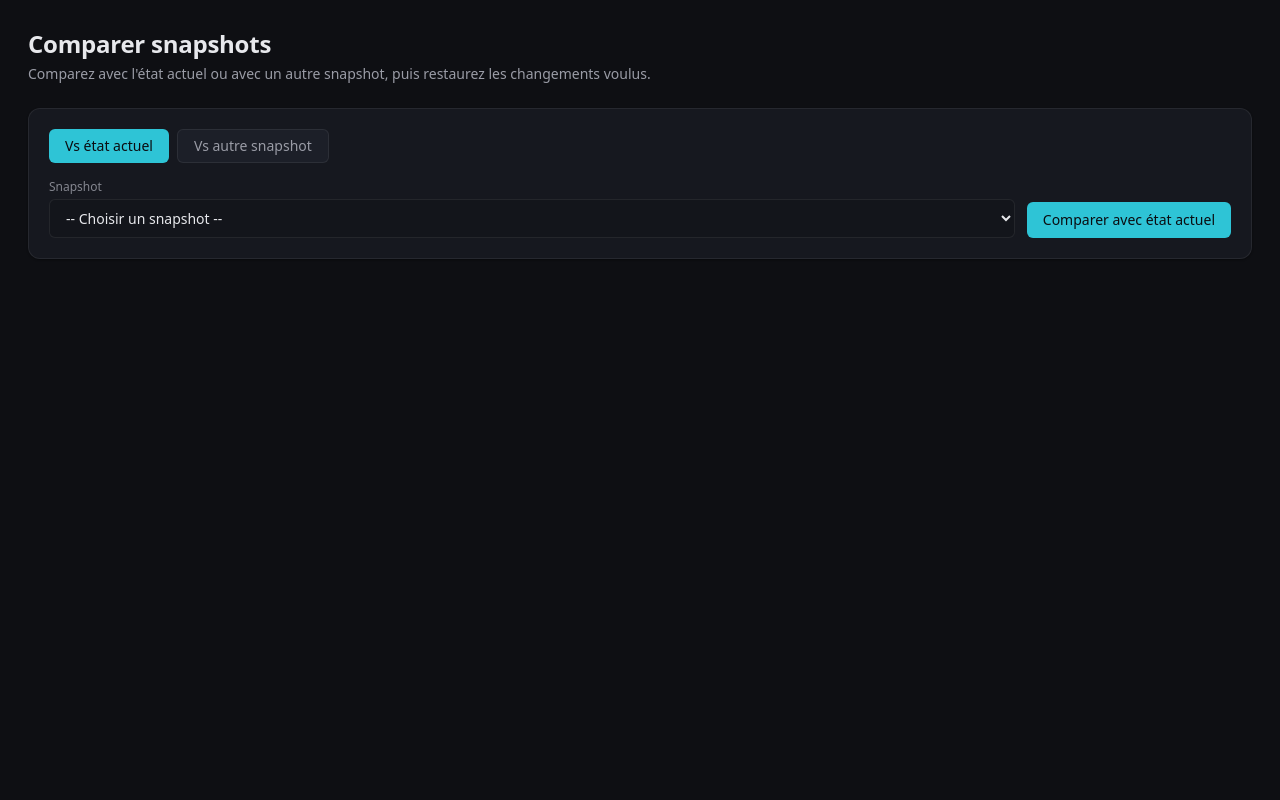
SnapshotComparePage › clicking a checkbox in DiffView adds the entry to selectedChanges
Step 1. Select "07/05/2026 12:00:00 (7 clés)" in the dropdown labelled "Snapshot" → (532, 218), box [49,199,1015,238]
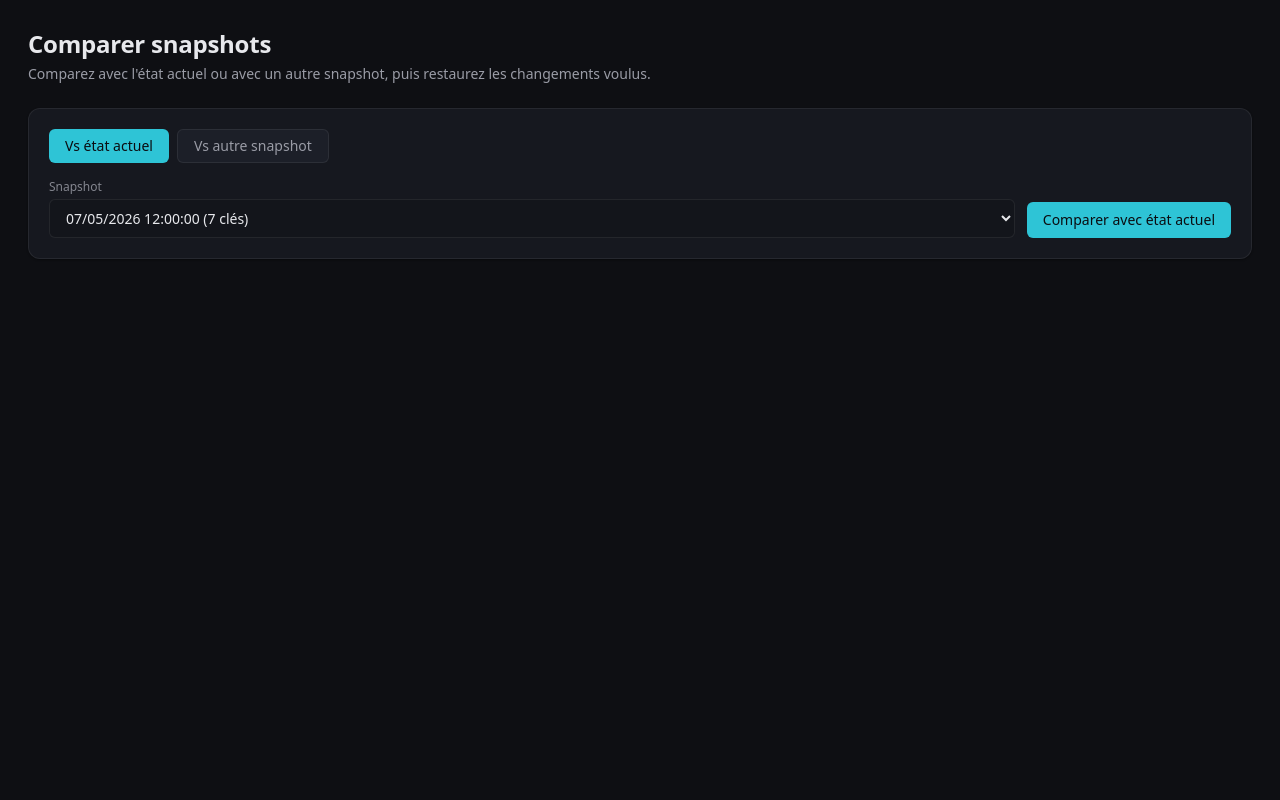
Step 2. Click the button "Comparer avec état actuel" → (1129, 220), box [1027,202,1231,238]
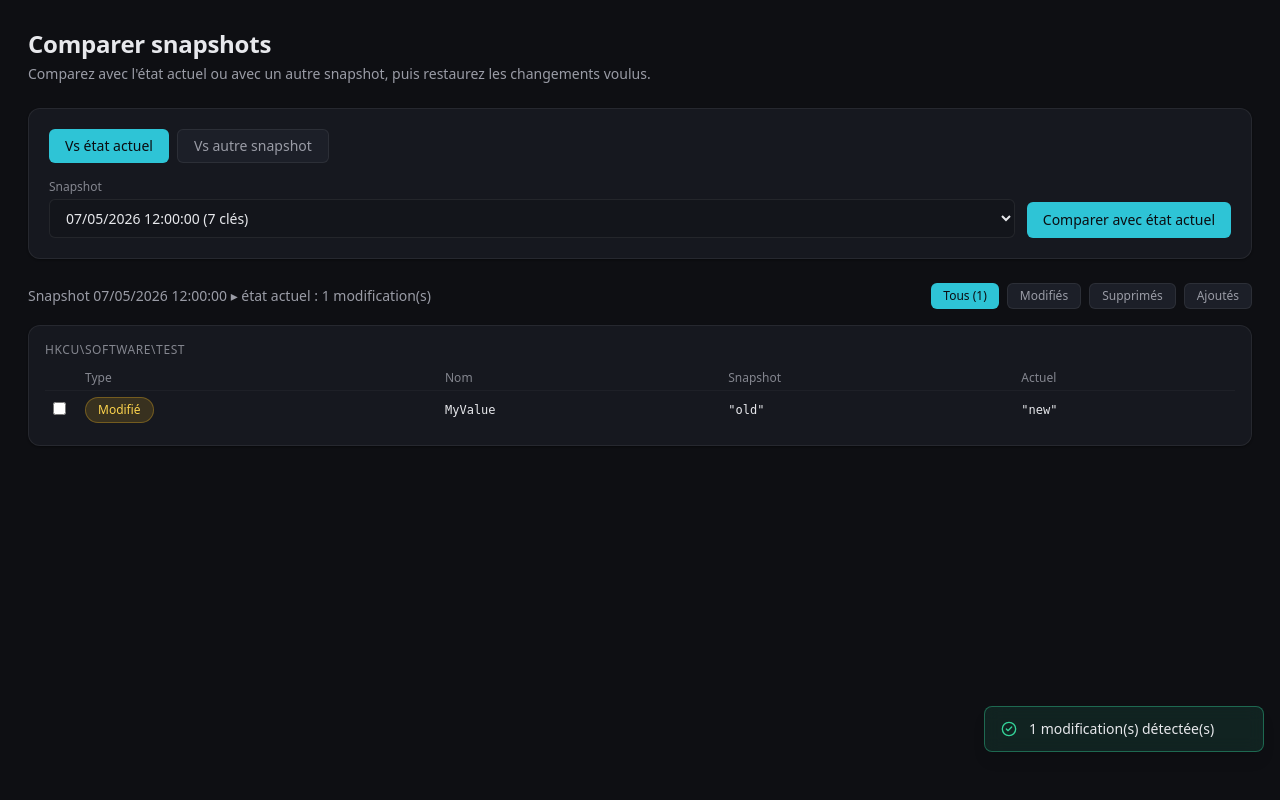
Expected: the checkbox named "Sélectionner MyValue" is shown
Step 3. Click the checkbox named "Sélectionner MyValue" → (60, 408), box [53,402,66,415]
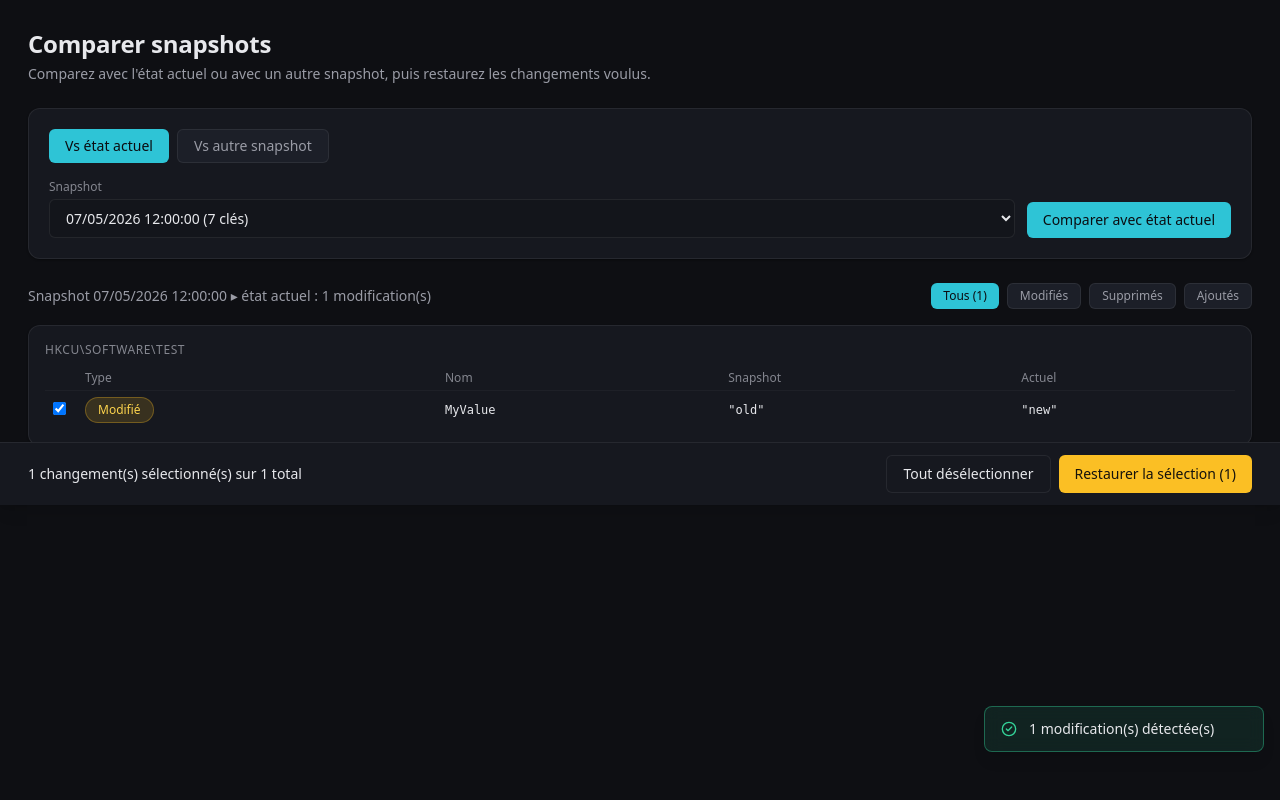
Expected: the text "1 changement(s) sélectionné(s) sur 1 total" is shown, [28,464,302,484]
